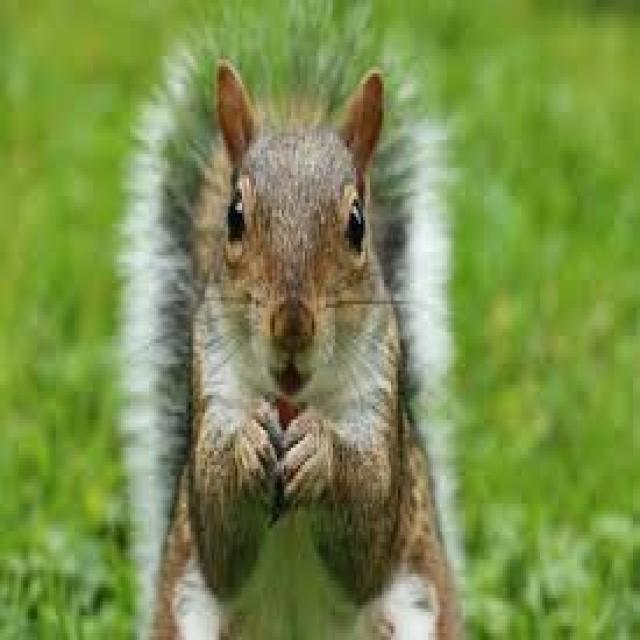Squirrel: (128, 71, 459, 640)
